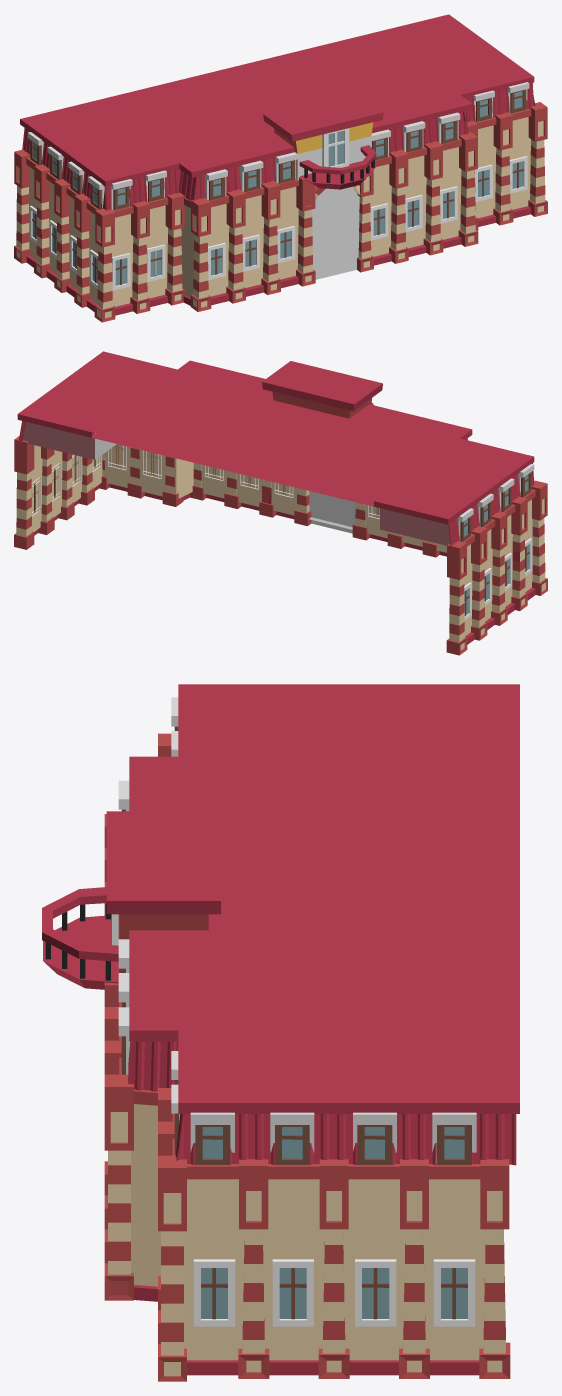
Rendered from  Rectal (foundation).fbx.
The picture shows the model from 3 angles, top to bottom: view 1: azimuth 30°, elevation 25°; view 2: azimuth 150°, elevation 25°; view 3: azimuth 270°, elevation 25°; orthographic projection. The views are drawn at different scales.
Parts seen in each view (by area): view 1: Rectal (foundation); view 2: Rectal (foundation); view 3: Rectal (foundation).
Boxes of the visible parts, box(x1,y1,x2,y2) form: Rectal (foundation): box(14, 14, 547, 322); Rectal (foundation): box(14, 351, 547, 655); Rectal (foundation): box(42, 684, 519, 1381).
Size of the model in its own units: 6978 by 2301 by 3237.
